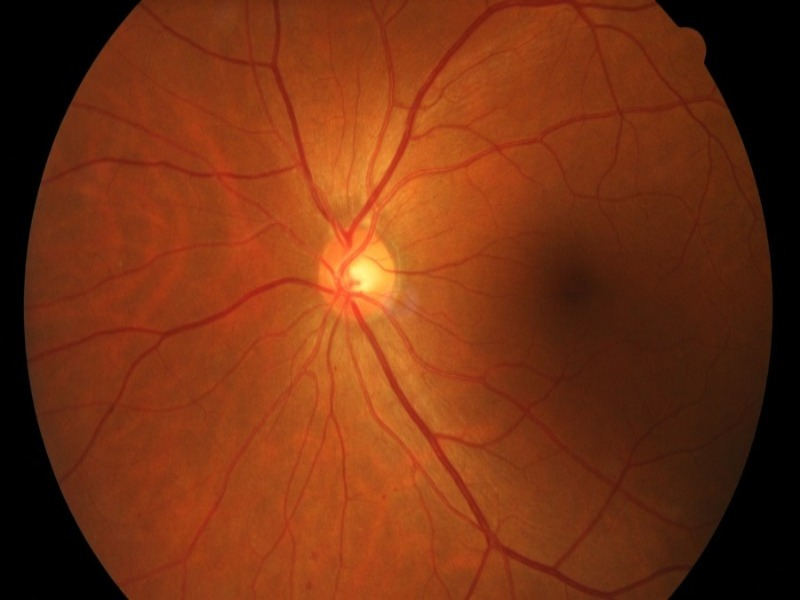Optic Cup: (347, 262, 376, 293)
Optic Disc: (318, 229, 396, 320)
